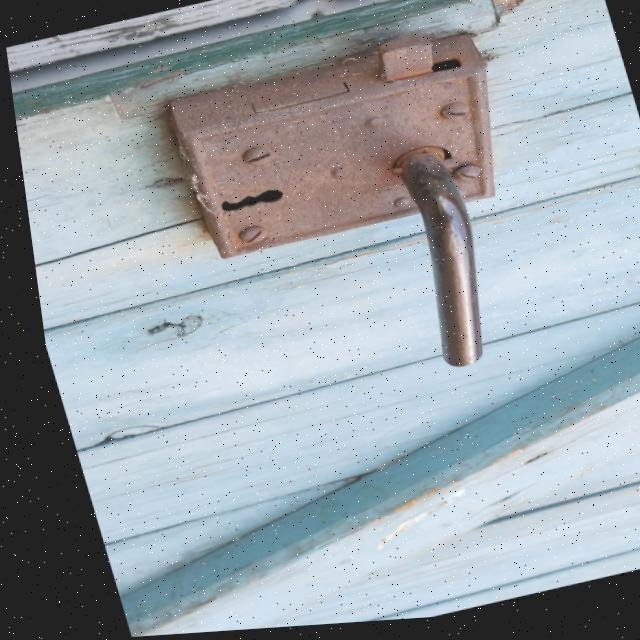corrosion: (140, 20, 533, 268)
